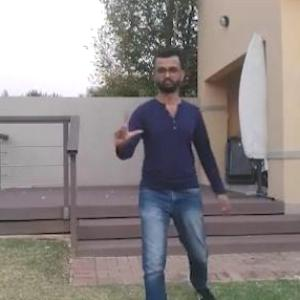land_hand: (108, 104, 144, 153)
